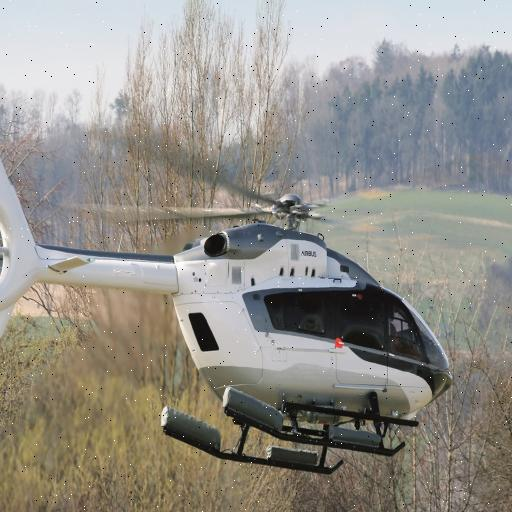helicopter: (1, 115, 452, 474)
